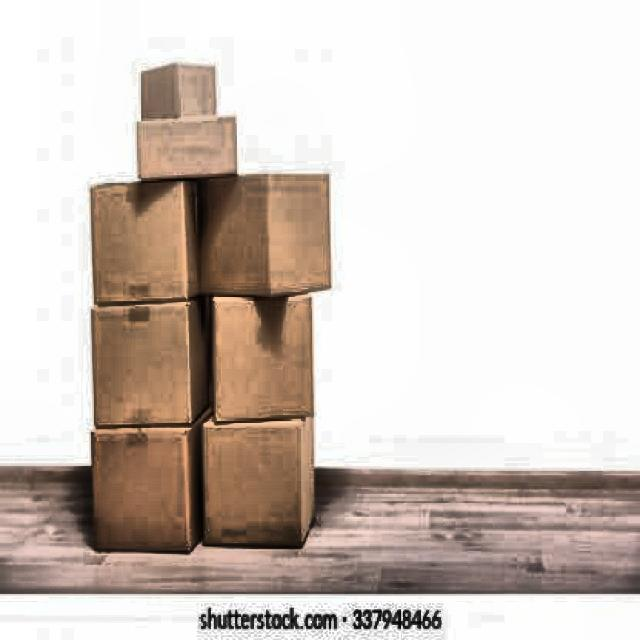Cardbox: (198, 164, 347, 302), (197, 281, 328, 420), (193, 411, 323, 549), (86, 170, 211, 306), (86, 301, 212, 426), (91, 422, 208, 548), (131, 111, 257, 184), (133, 65, 230, 131)
